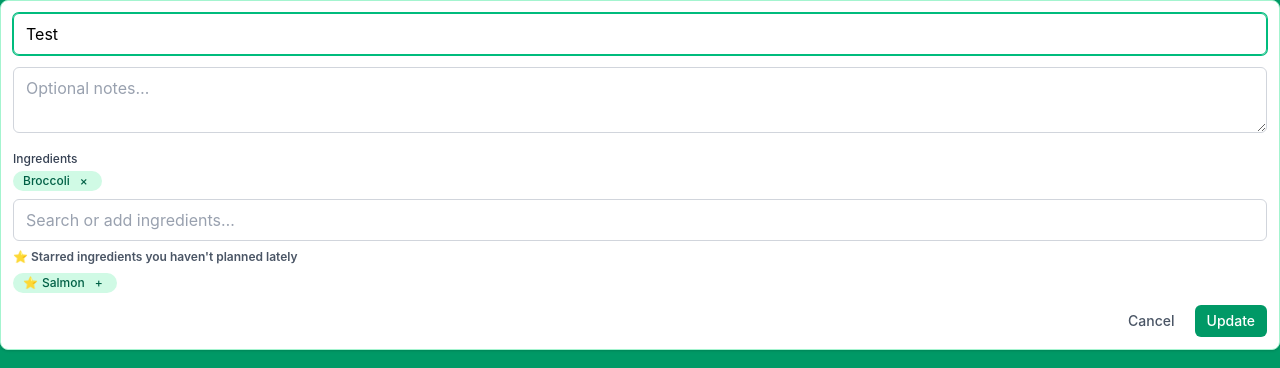
Test case: MealPlanForm › removes ingredient when remove button is clicked
This screenshot has width=1280, height=368.
Expected: the text "Broccoli" is shown, [23,173,70,189]
What coordinates should you click on to do the following:
click the button named "Remove Broccoli"
I would click on:
 (84, 181)
Its box is [76,173,92,189].
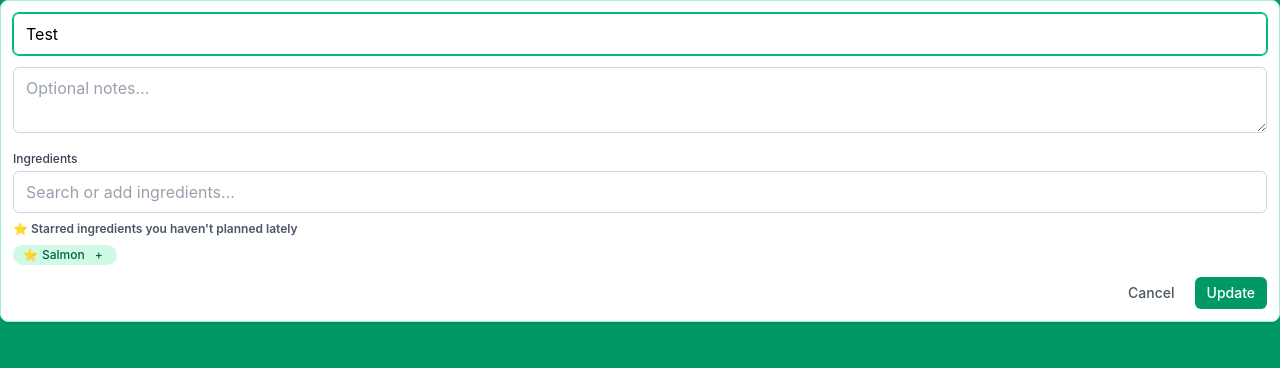
Expected: the element with test id "selected-ingredients" is gone
